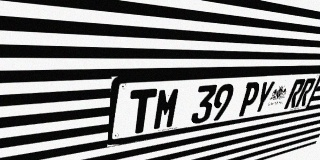3: (190, 85, 218, 125)
9: (209, 83, 236, 122)
M: (152, 87, 182, 131)
P: (236, 82, 262, 117)
R: (284, 79, 306, 109), (295, 78, 317, 107)
T: (126, 88, 157, 135)
Y: (251, 81, 276, 115)
